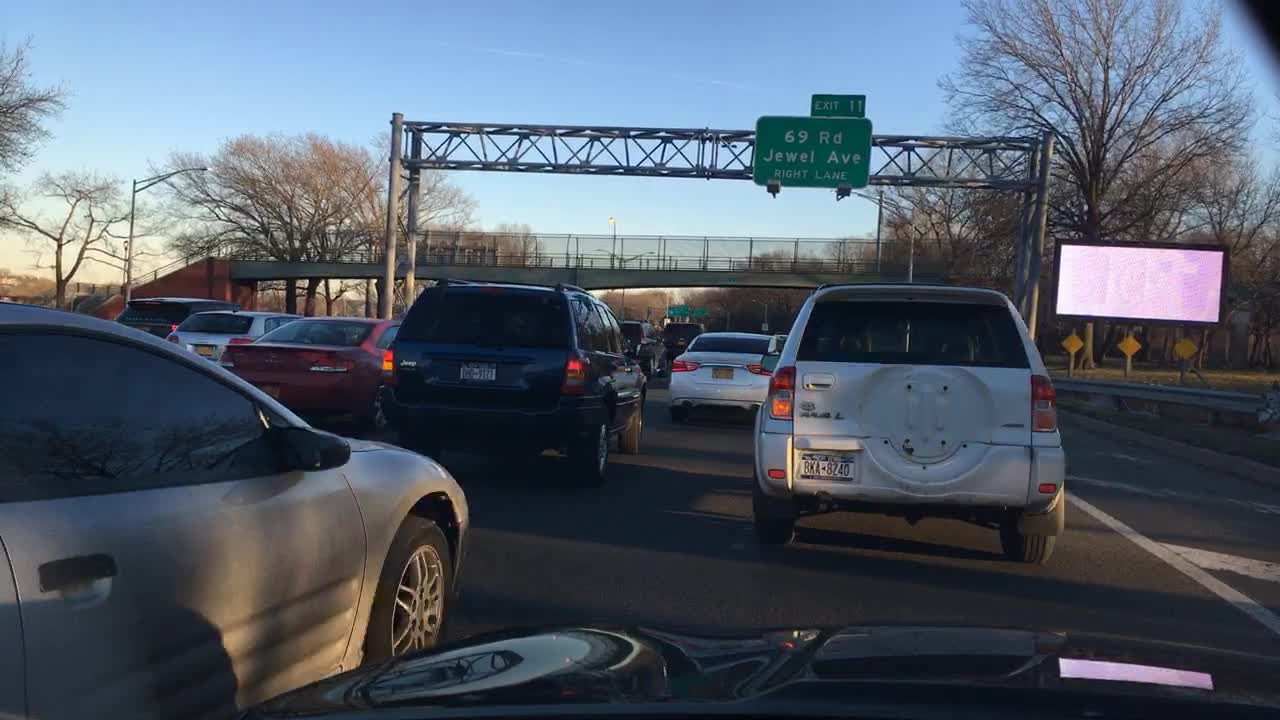car: (0, 301, 469, 717), (753, 281, 1065, 566), (376, 278, 646, 481), (222, 316, 401, 431), (668, 329, 781, 421), (162, 310, 309, 371), (108, 295, 240, 338), (621, 319, 666, 381), (661, 321, 709, 355)
traffic sign: (753, 117, 869, 188), (811, 93, 865, 117), (670, 305, 687, 316), (690, 308, 708, 316)
